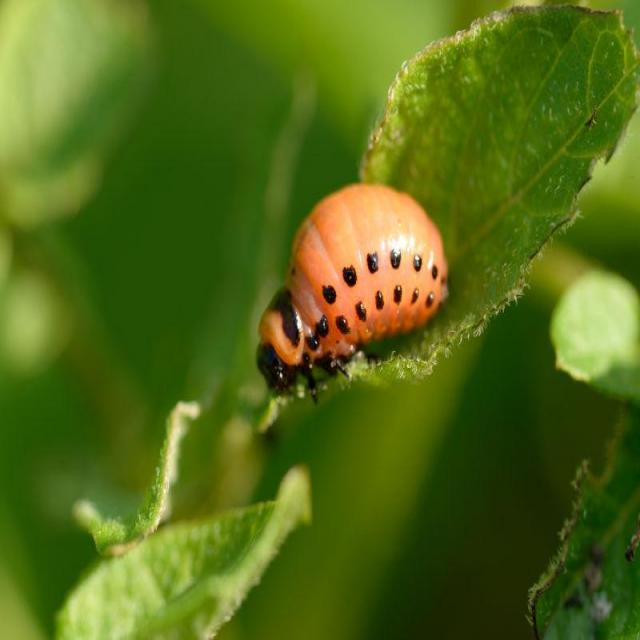ShuCaiHuaBanChong-Larva-: (242, 181, 467, 403)
